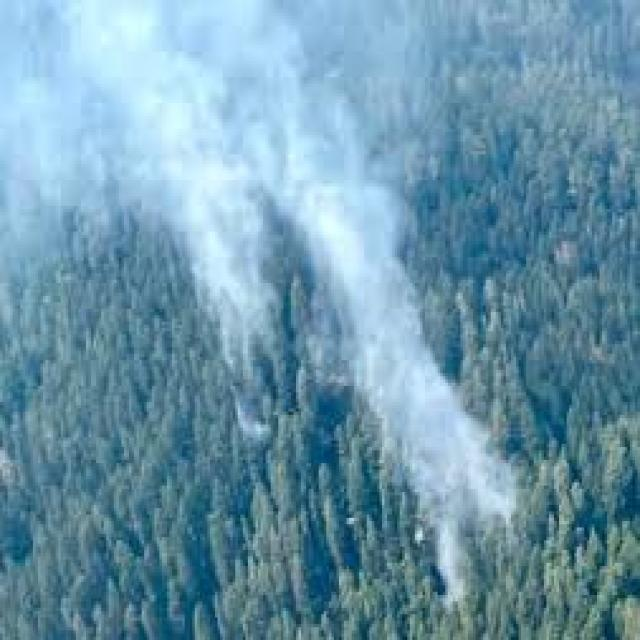Smoke: (287, 0, 518, 617), (0, 1, 426, 232), (176, 26, 304, 450)
